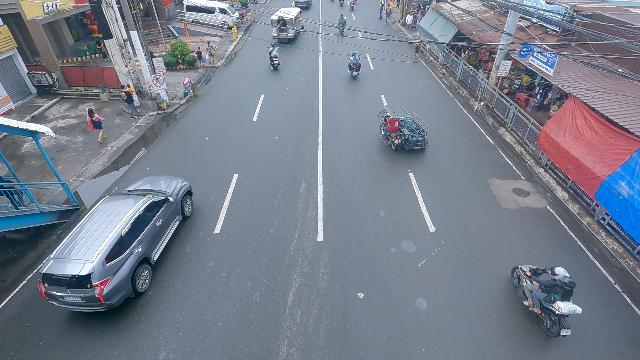car: (33, 175, 193, 316)
jeepney: (269, 6, 305, 43)
motorcycle: (507, 262, 577, 339), (345, 49, 361, 81), (266, 42, 280, 71), (336, 15, 347, 36), (348, 0, 355, 11)
